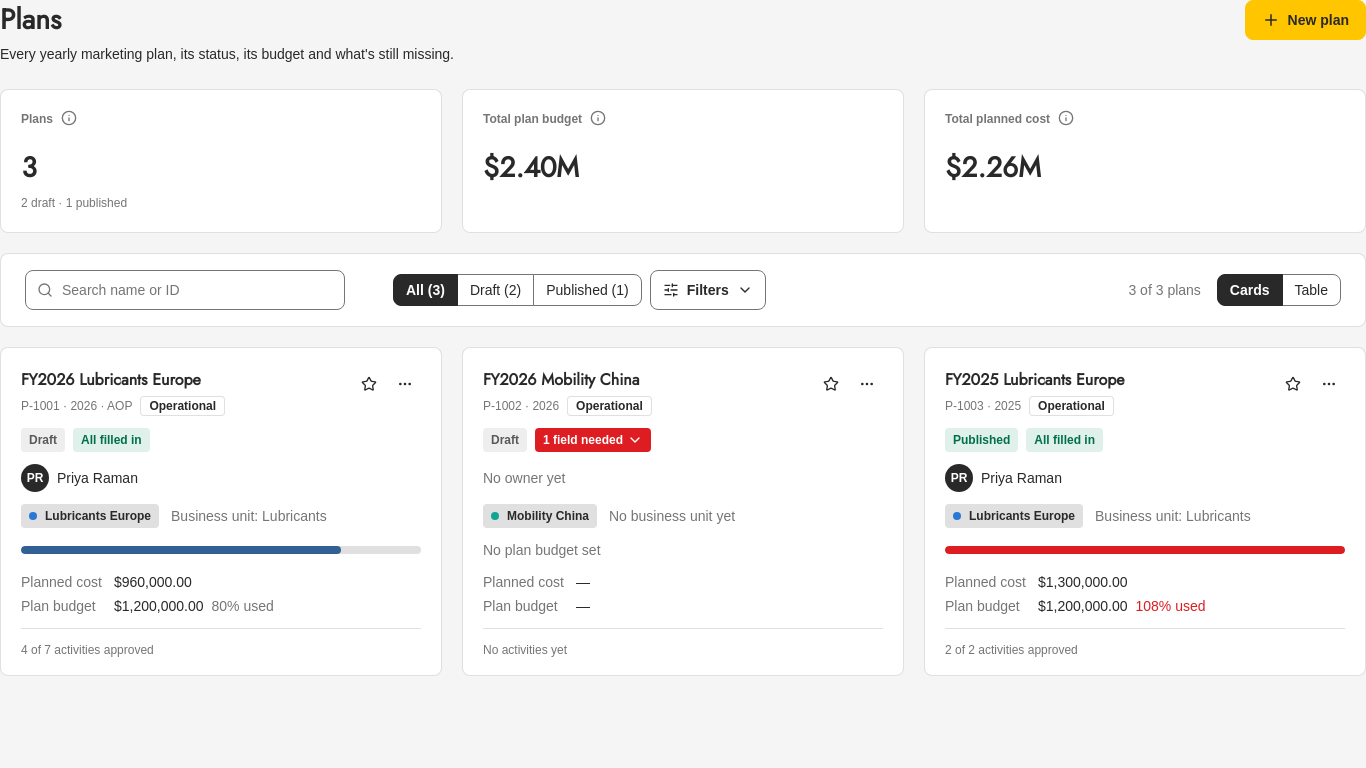
Test: PlansPage (US2, FR-001 – FR-004) › shows my teams with the hint (US2#4, FR-004)
This screenshot has width=1366, height=768.
Click the button "Filters".
click(708, 290)  # box left=650, top=270, right=766, bottom=310
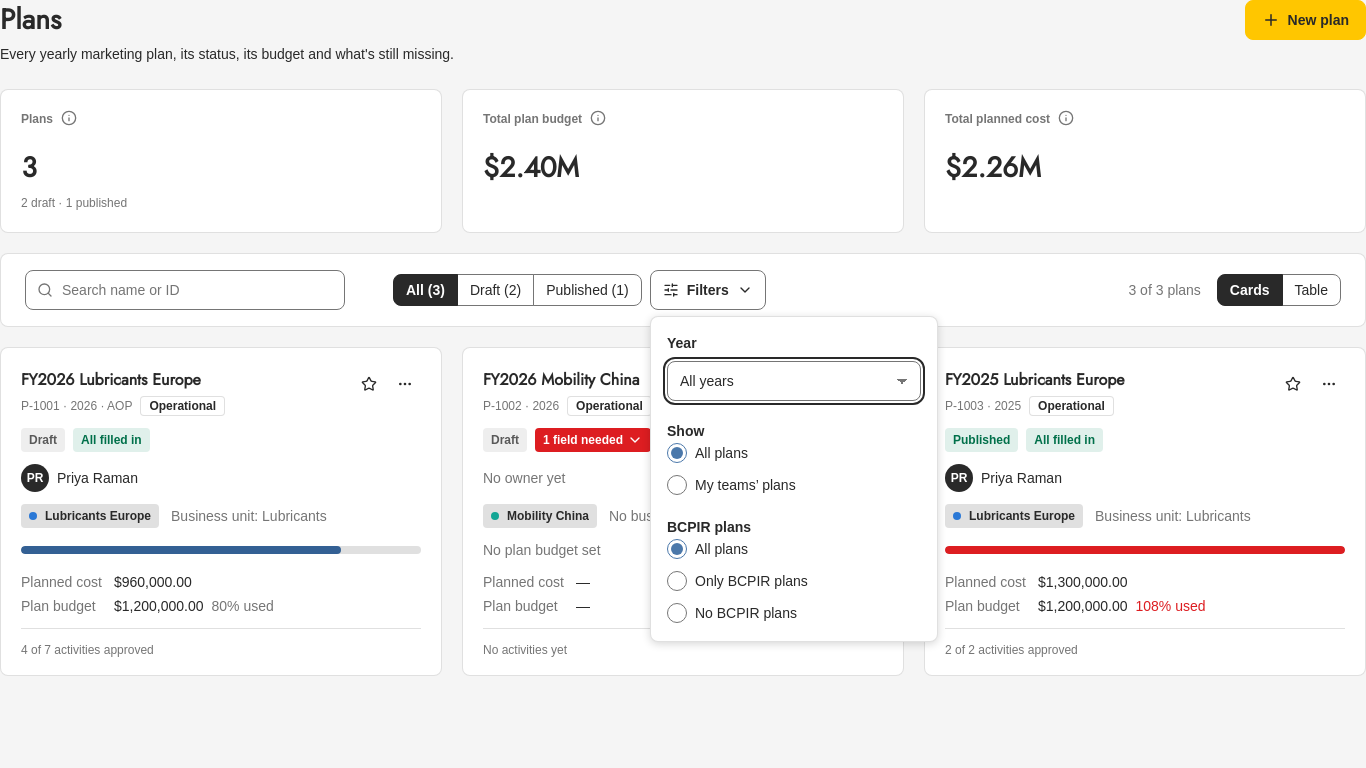
Click the radio button labelled "My teams’ plans".
click(677, 485)  # box left=667, top=475, right=687, bottom=495
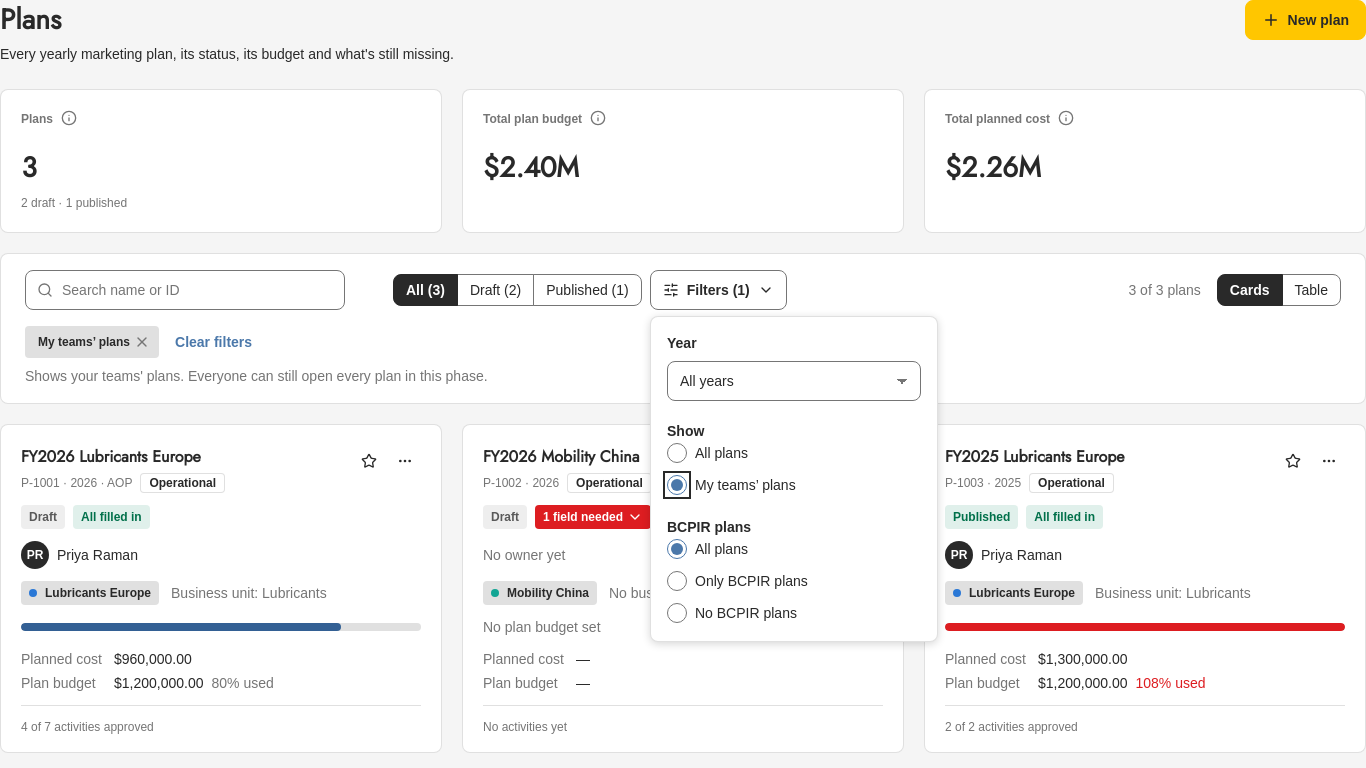
Check: the text "Shows your teams' plans. Everyone can still open every plan in this phase." is shown, box left=25, top=368, right=488, bottom=384
